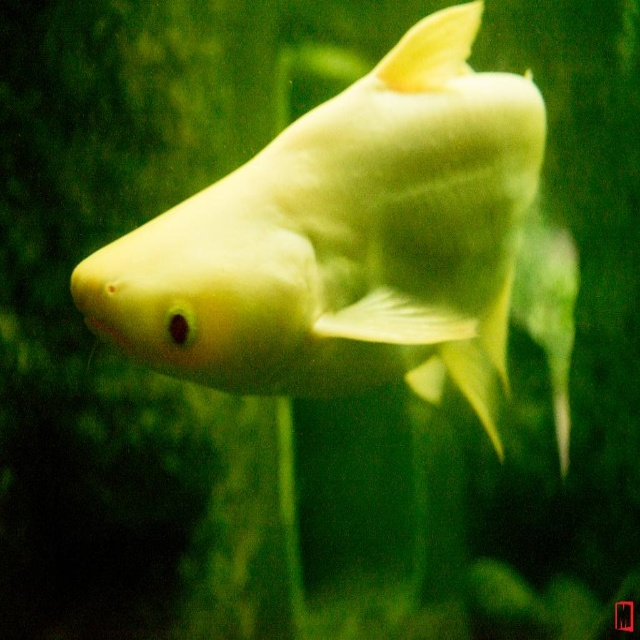Fish: (61, 12, 565, 469)
